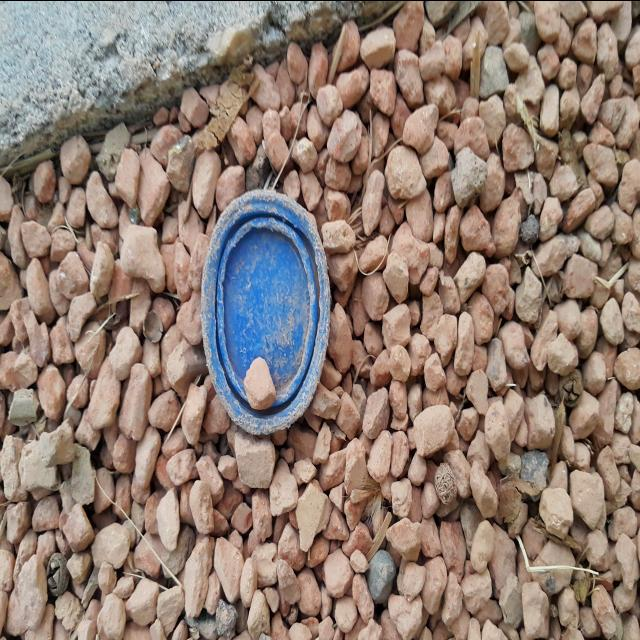Plastic bottle cap: (201, 190, 330, 432)
